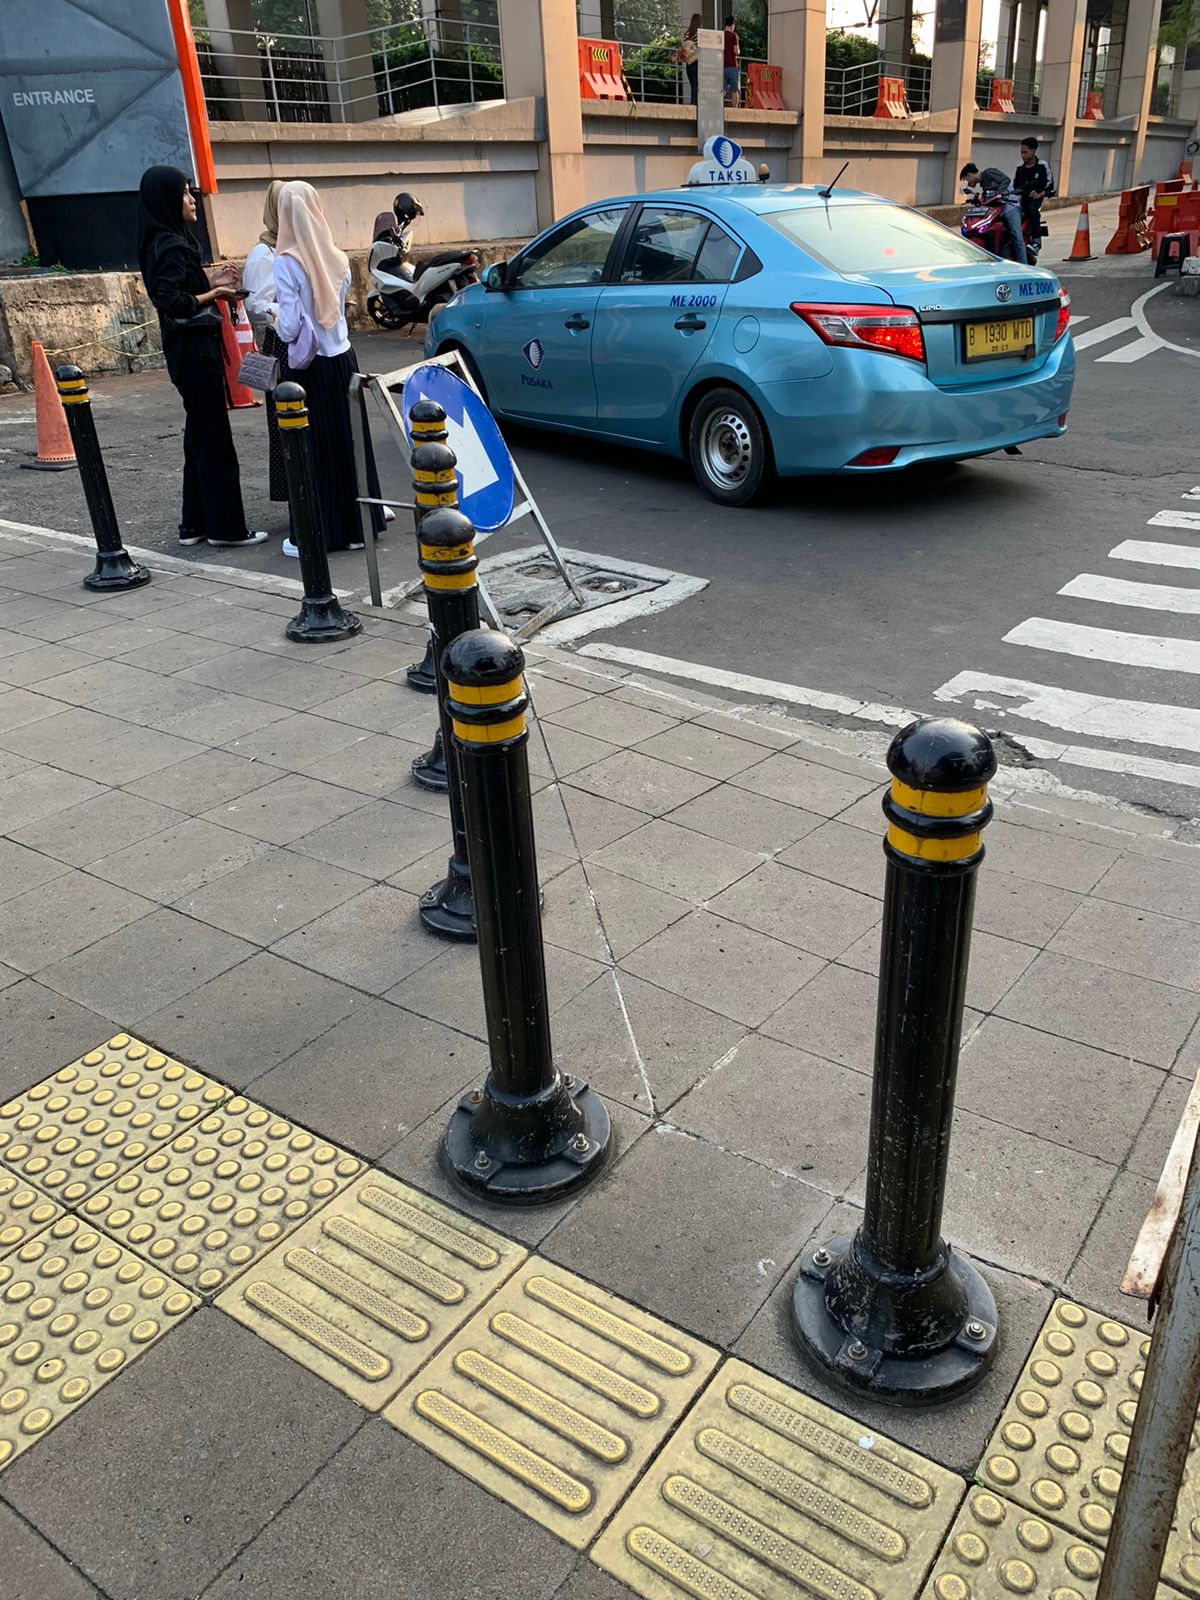bollard: (782, 718, 1008, 1415), (436, 626, 624, 1209), (255, 388, 361, 661), (45, 363, 141, 601)
zebracross: (959, 498, 1197, 761)
